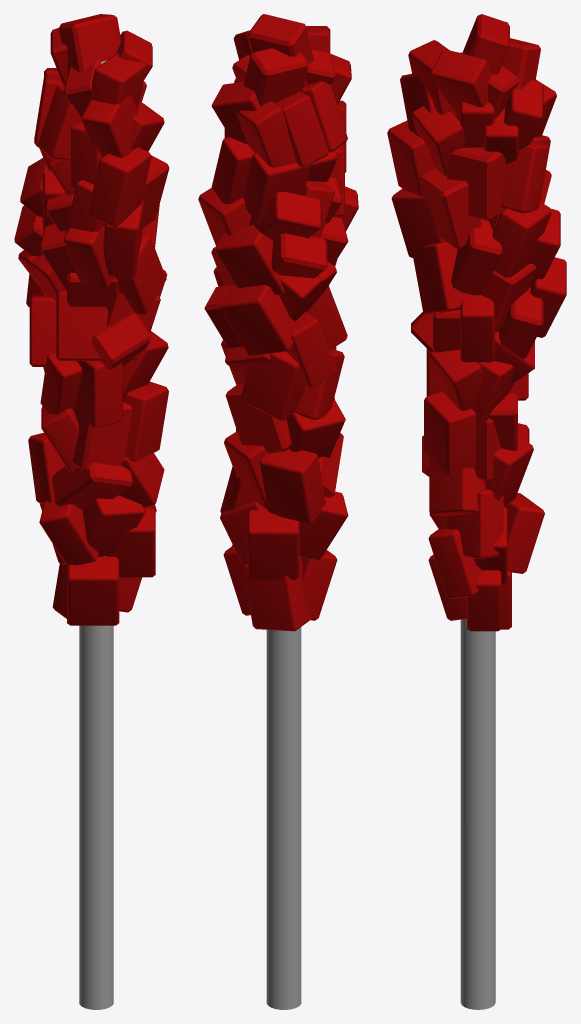
Rendered from Rock Candy.fbx.
The picture shows the model from 3 angles, left to right: view 1: azimuth 30°, elevation 25°; view 2: azimuth 150°, elevation 25°; view 3: azimuth 270°, elevation 25°; orthographic projection.
Visible parts, largest first — view 1: pCube771, pCylinder9; view 2: pCube771, pCylinder9; view 3: pCube771, pCylinder9.
Boxes of the visible parts, x1,y1,x2,y2 form: pCube771: [14, 14, 169, 625]; pCylinder9: [79, 60, 113, 1009]; pCube771: [198, 14, 358, 631]; pCylinder9: [266, 556, 301, 1009]; pCube771: [387, 14, 566, 631]; pCylinder9: [460, 618, 495, 1009].
Bounding box in the file's own units: 4.16 × 31.11 × 5.17.
